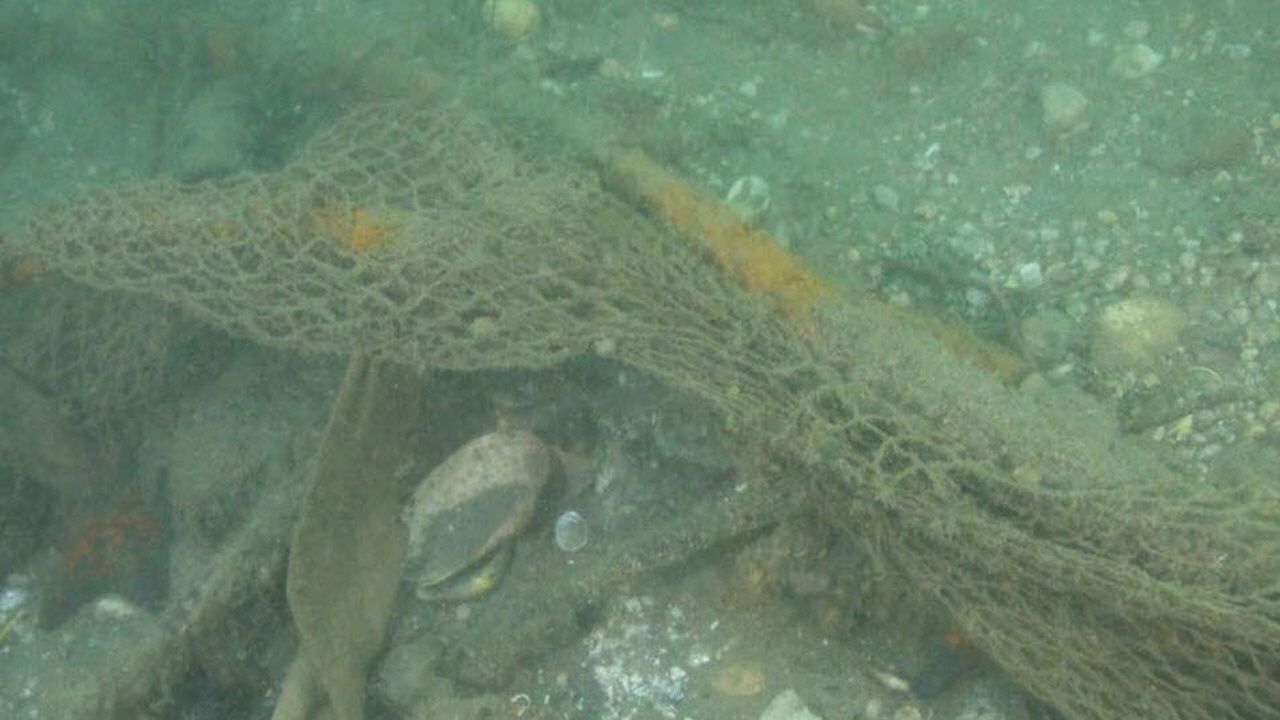fish net: (20, 101, 1280, 719)
